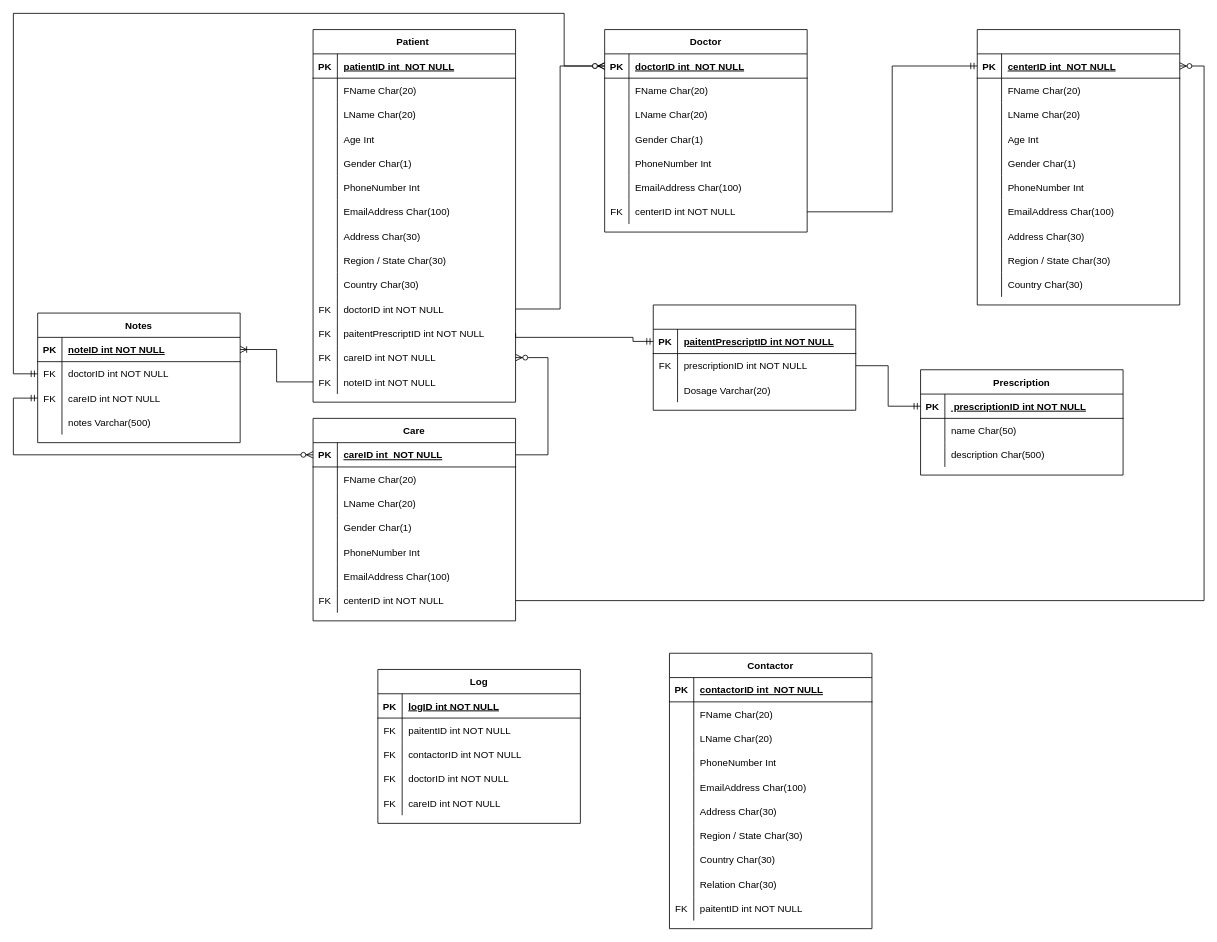
Some shapes in this 1217 by 942 pixel diagram are drawn without their labels. Here are the shapes that lost their labels. From the top down, the box of each, then its label:
(976, 29, 1180, 305): Medical Center
(652, 304, 856, 410): PaitentPrescription
